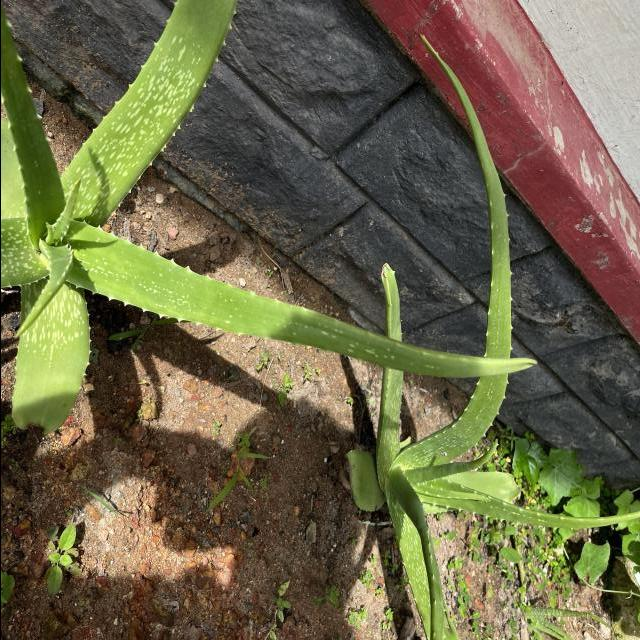Aloe vera: (64, 220, 540, 382)
